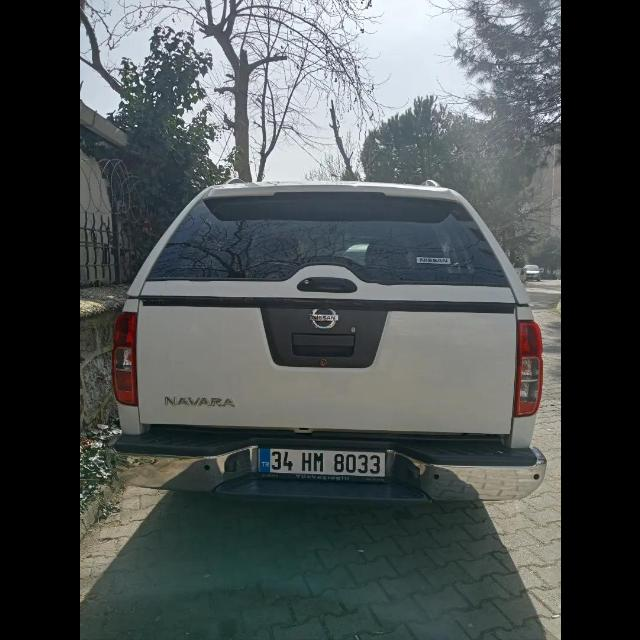Plaka: (256, 446, 386, 478)
